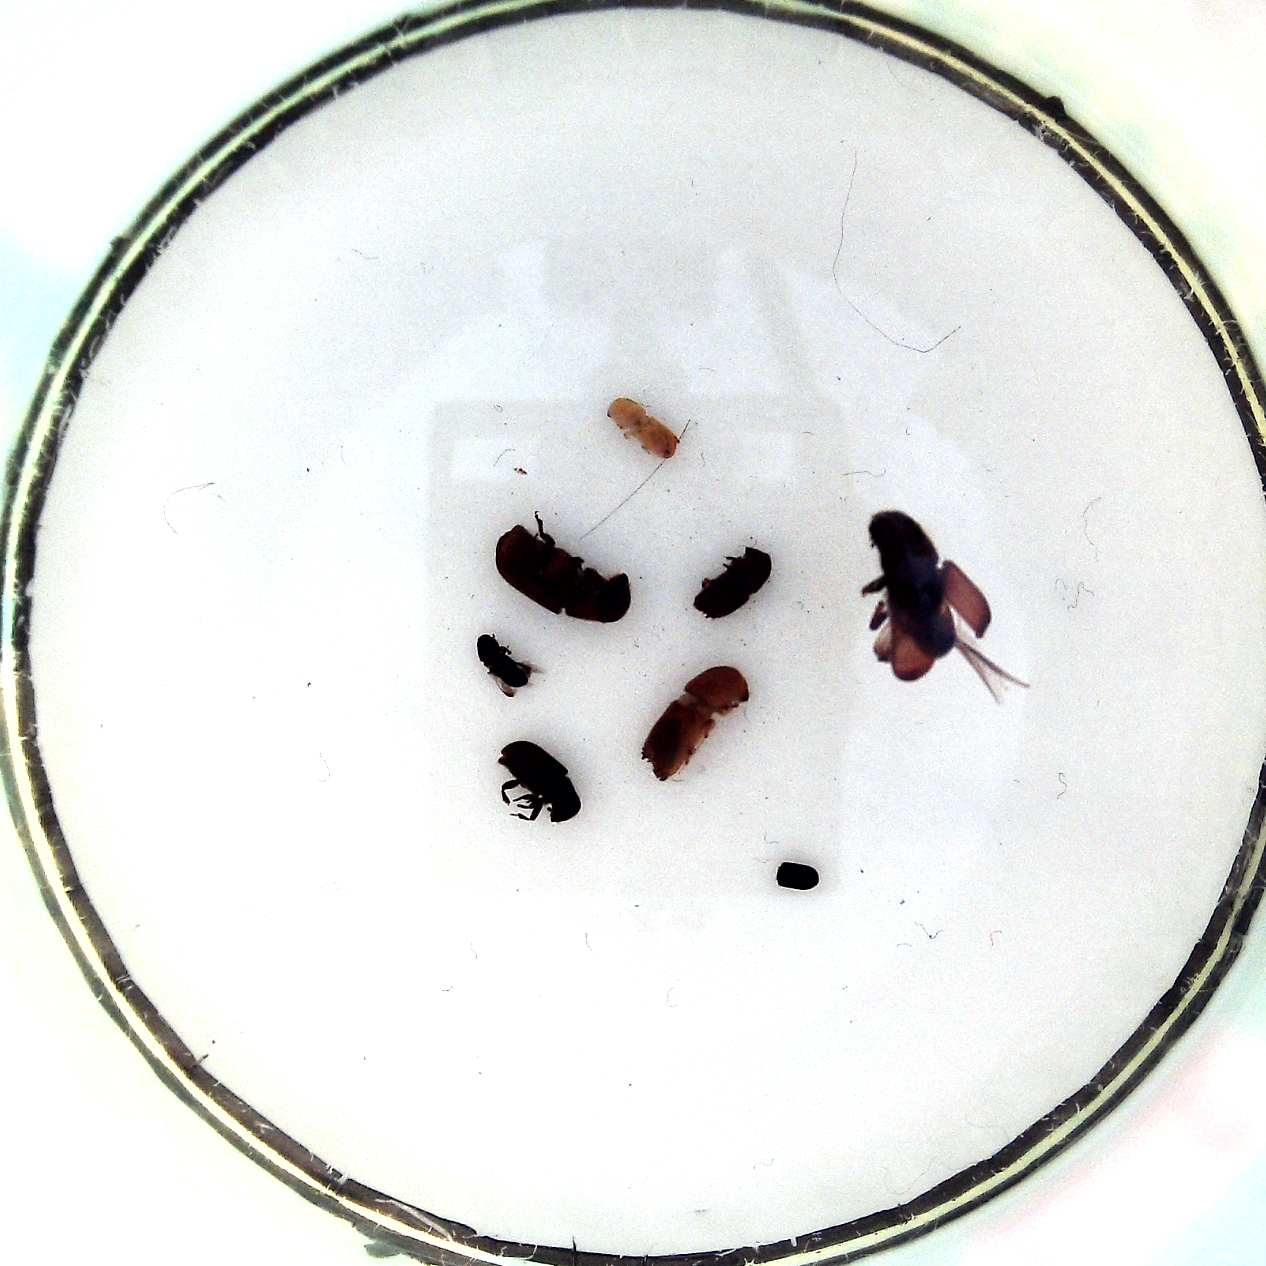Boerner: (641, 664, 754, 783)
Leconte: (858, 508, 1031, 706), (489, 512, 635, 625)
Linnaeus: (690, 545, 774, 621)
acuminatus: (603, 396, 679, 463)
armandi: (492, 741, 587, 830)
coleoptera: (476, 630, 548, 699), (770, 859, 823, 893)
